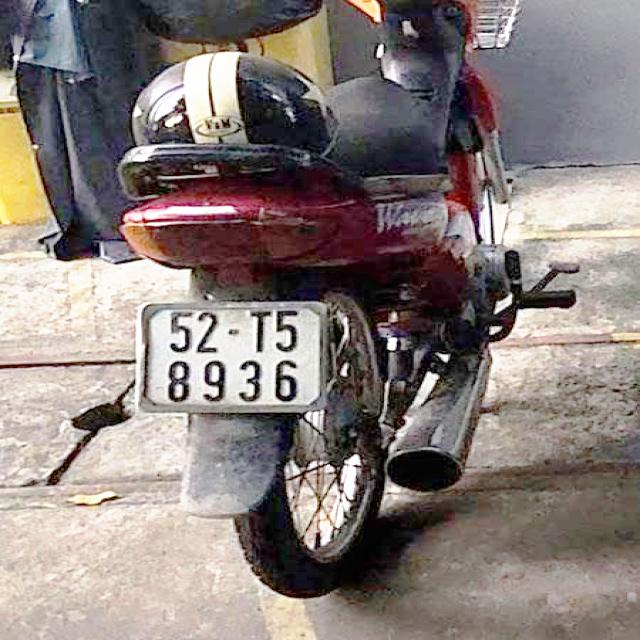license_plate: (144, 306, 325, 411)
